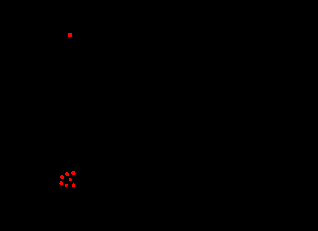Target: (71, 171, 76, 175), (68, 33, 72, 37), (65, 172, 69, 176), (60, 175, 64, 179), (59, 181, 63, 185), (72, 183, 75, 187), (69, 178, 72, 181), (65, 184, 68, 187)
